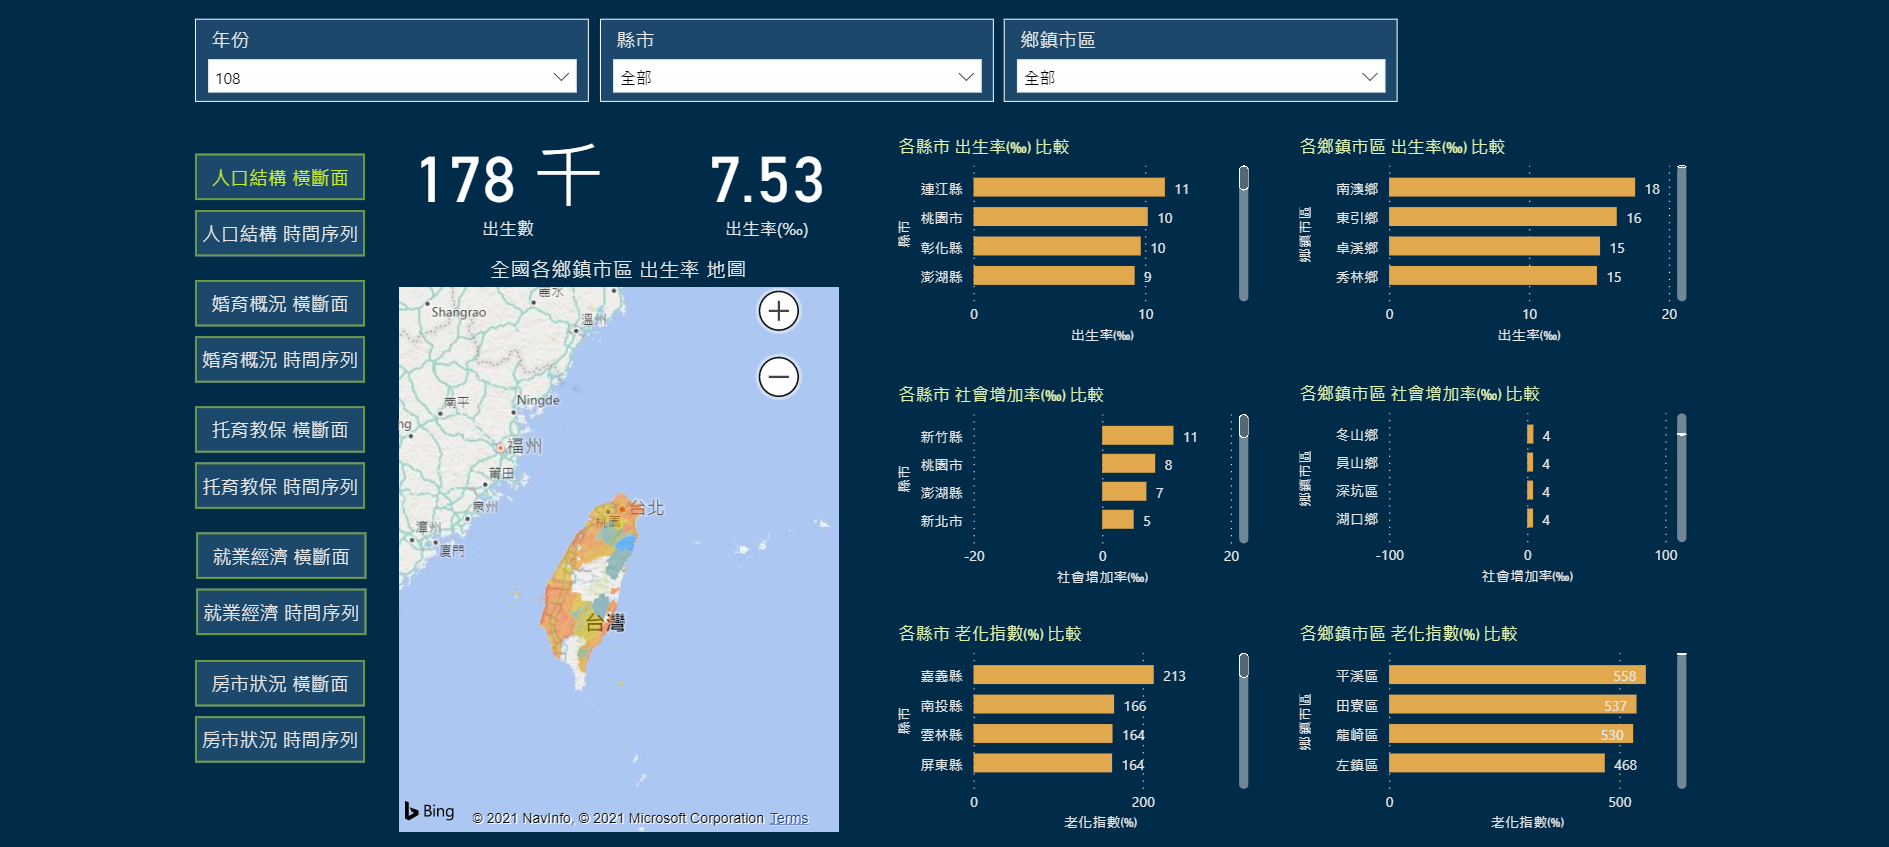

The page's visual inventory and layout, read from the dashboard file:
{"tool":"powerbi","page":{"name":"人口結構(橫斷面)","canvas":[1280,720],"ordinal":0},"visuals":[{"type":"filledMap","title":"全國各鄉鎮市區 出生率 地圖","fields":{"Category":["segisData.county","segisData.town"]},"box":[171.3,216.3,382.5,493.2],"z":0},{"type":"slicer","fields":{"Values":["segisData.年份"]},"box":[4.8,15.4,333.9,70.1],"z":1000},{"type":"slicer","fields":{"Values":["segisData.縣市"]},"box":[346.9,15.4,333.9,70.1],"z":2000},{"type":"slicer","fields":{"Values":["segisData.鄉鎮市區"]},"box":[689.1,15.4,333.9,70.1],"z":3000},{"type":"card","fields":{"Values":["Sum(segisData.births_nums)"]},"box":[148.5,97.6,242.4,115.2],"z":4000},{"type":"card","fields":{"Values":["segisData.出生率"]},"box":[367.1,97.6,242.4,115.2],"z":5000},{"type":"barChart","title":"各鄉鎮市區 出生率(‰) 比較","fields":{"Y":["segisData.出生率"],"Category":["segisData.town"]},"box":[935,113.1,337.4,181.8],"z":6000},{"type":"barChart","title":"各縣市 出生率(‰) 比較","fields":{"Y":["segisData.出生率"],"Category":["segisData.county"]},"box":[595.2,113.1,306.5,181.8],"z":7000},{"type":"barChart","title":"各縣市 老化指數(%) 比較","fields":{"Category":["segisData.county"],"Y":["segisData.老化指數"]},"box":[595.2,526.3,306.5,181.8],"z":8000},{"type":"barChart","title":"各鄉鎮市區 老化指數(%) 比較","fields":{"Y":["segisData.老化指數"],"Category":["segisData.town"]},"box":[935,526.3,337.4,181.8],"z":9000},{"type":"barChart","title":"各縣市 社會增加率(‰) 比較","fields":{"Y":["segisData.社會增加率"],"Category":["segisData.county"]},"box":[595.2,324.4,306.5,175.8],"z":10000},{"type":"barChart","title":"各鄉鎮市區 社會增加率(‰) 比較","fields":{"Y":["segisData.社會增加率"],"Category":["segisData.town"]},"box":[935,323.2,337.4,175.8],"z":11000},{"type":"actionButton","box":[4.8,130.7,143.8,39.2],"z":12000},{"type":"actionButton","box":[4.8,178.2,143.8,39.2],"z":13000},{"type":"actionButton","box":[4.3,237.6,143.8,39.2],"z":14000},{"type":"actionButton","box":[4.3,285.2,143.8,39.2],"z":15000},{"type":"actionButton","box":[4.9,499.1,143.8,39.2],"z":16000},{"type":"actionButton","box":[4.9,451.6,143.8,39.2],"z":17000},{"type":"actionButton","box":[4.3,391.6,143.8,39.2],"z":18000},{"type":"actionButton","box":[4.3,344.1,143.8,39.2],"z":19000},{"type":"actionButton","box":[4.5,559.5,143.8,39.2],"z":20000},{"type":"actionButton","box":[4.5,607.1,143.8,39.2],"z":21000}]}

Visuals, with their boxes on the page's 1280x720 design canvas (x1, y1, x2, y2). These are canvas units, not pixel positions in the 1889x847 screenshot, which may show the page scaled, cropped or inside an application window:
"全國各鄉鎮市區 出生率 地圖" filledMap: l=171, t=216, r=554, b=710
slicer - segisData.年份: l=5, t=15, r=339, b=86
slicer - segisData.縣市: l=347, t=15, r=681, b=86
slicer - segisData.鄉鎮市區: l=689, t=15, r=1023, b=86
card - Sum(segisData.births_nums): l=148, t=98, r=391, b=213
card - segisData.出生率: l=367, t=98, r=610, b=213
"各鄉鎮市區 出生率(‰) 比較" barChart: l=935, t=113, r=1272, b=295
"各縣市 出生率(‰) 比較" barChart: l=595, t=113, r=902, b=295
"各縣市 老化指數(%) 比較" barChart: l=595, t=526, r=902, b=708
"各鄉鎮市區 老化指數(%) 比較" barChart: l=935, t=526, r=1272, b=708
"各縣市 社會增加率(‰) 比較" barChart: l=595, t=324, r=902, b=500
"各鄉鎮市區 社會增加率(‰) 比較" barChart: l=935, t=323, r=1272, b=499
actionButton: l=5, t=131, r=149, b=170
actionButton: l=5, t=178, r=149, b=217
actionButton: l=4, t=238, r=148, b=277
actionButton: l=4, t=285, r=148, b=324
actionButton: l=5, t=499, r=149, b=538
actionButton: l=5, t=452, r=149, b=491
actionButton: l=4, t=392, r=148, b=431
actionButton: l=4, t=344, r=148, b=383
actionButton: l=4, t=560, r=148, b=599
actionButton: l=4, t=607, r=148, b=646
